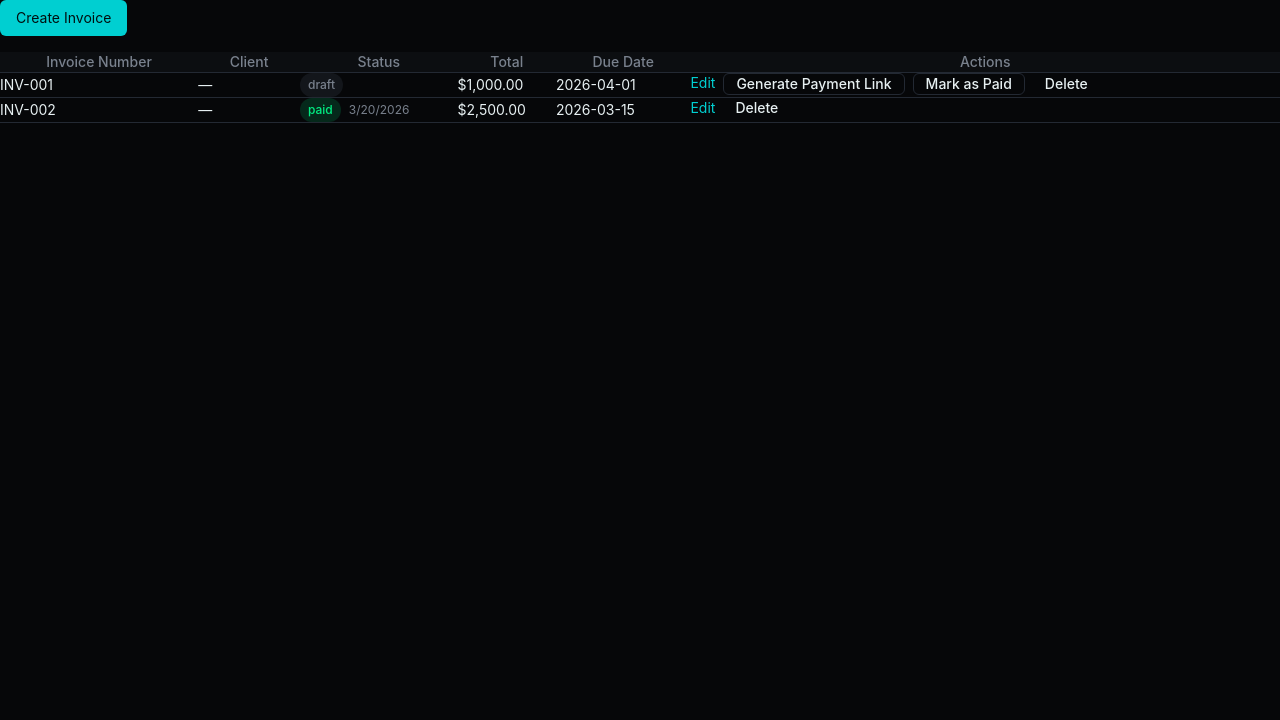
it: InvoiceList › delete confirmation › should show confirmation dialog when delete button is clicked
Click the button "Delete" in the row of "INV-001" at point(1066, 84), box [1033,73,1100,95]
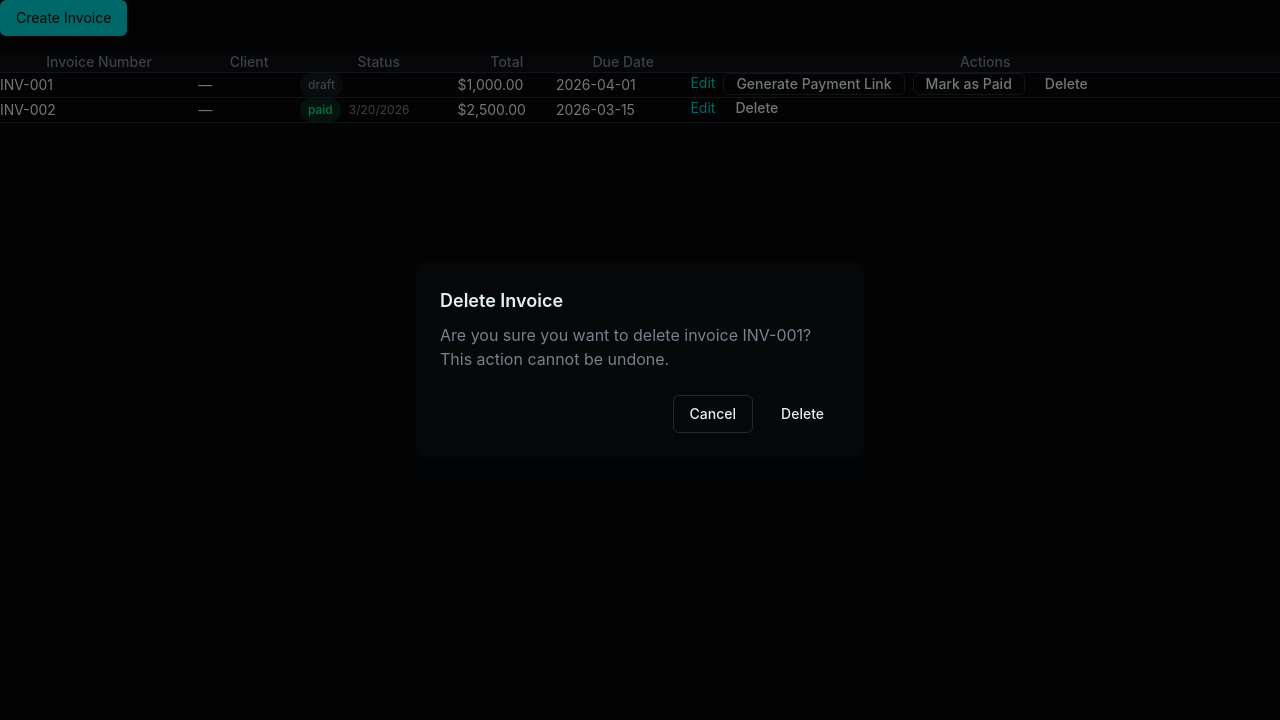
Check: the text "Are you sure you want to delete invoice INV-001" is shown, box [440,325,811,369]
